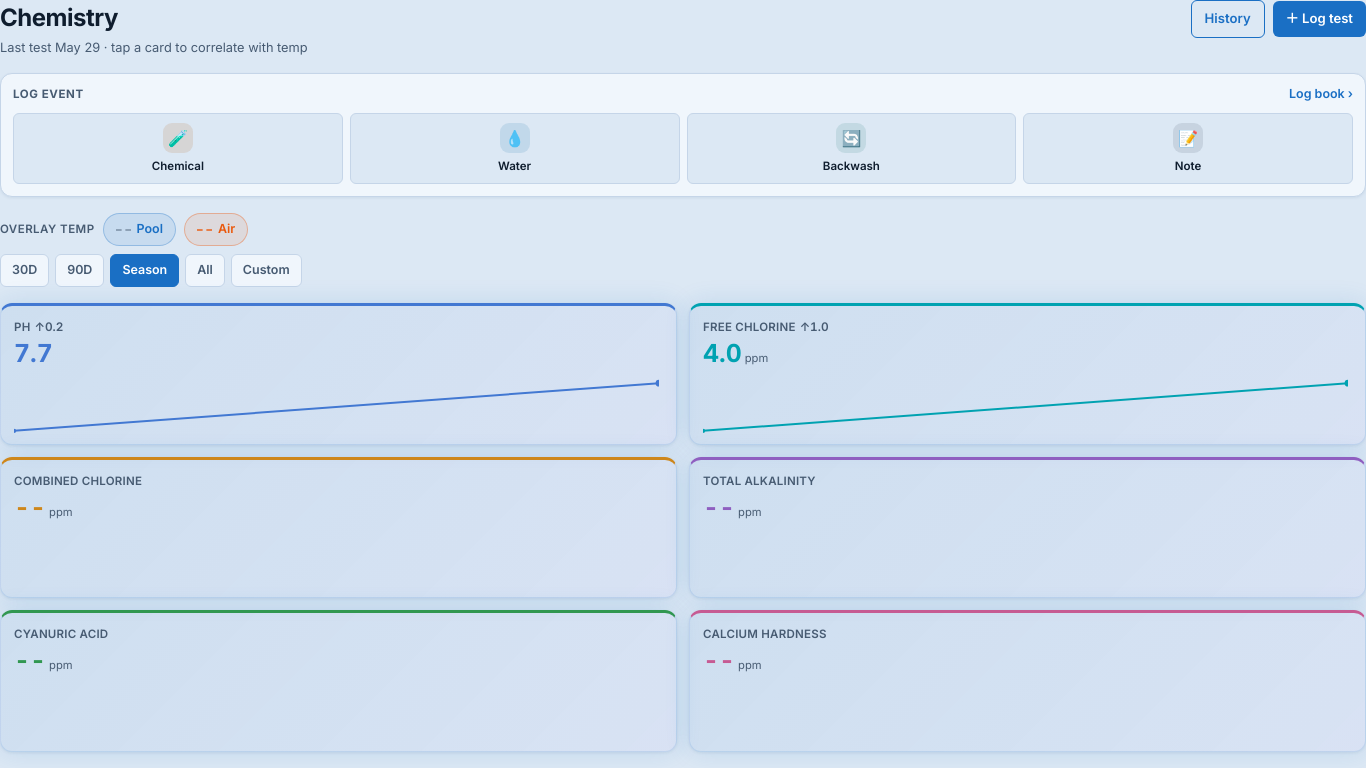
Test case: ChemistryTab › clicking a Log event kind button opens the event log flow (unlock sheet when locked)
The width and height of the screenshot is (1366, 768).
Expected: the text "PH" is shown, [14,319,30,336]
Click the button "🧪 Chemical" at (178, 149), box [13,113,343,184]
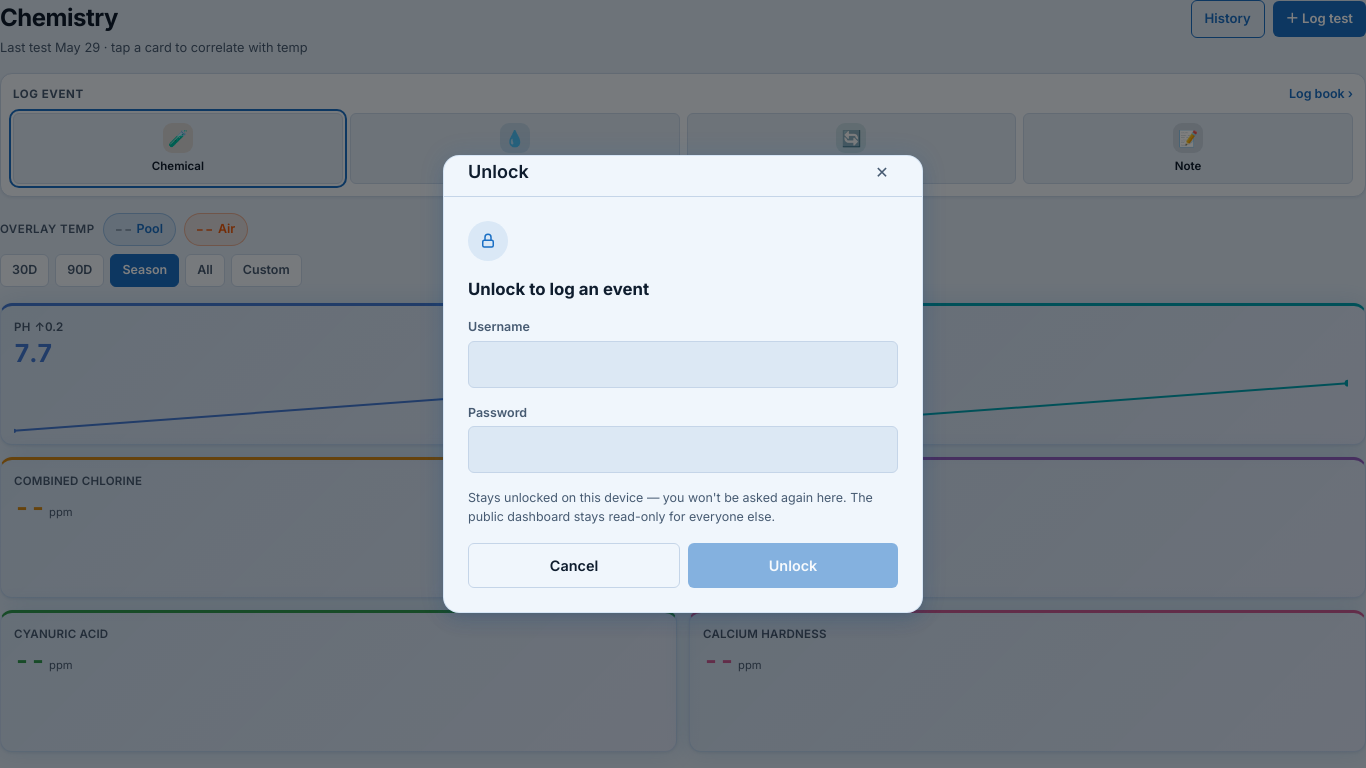
Result: the text "Unlock to log an event" is shown at [468,279,649,299]
